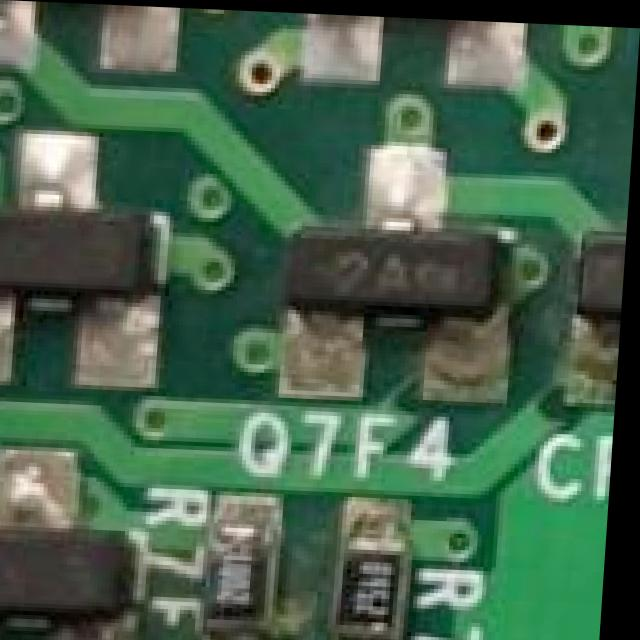resistor: (215, 505, 282, 640), (340, 525, 413, 640)
transistor: (290, 187, 511, 358), (0, 176, 183, 343), (0, 468, 151, 640), (574, 189, 631, 366), (275, 10, 552, 35), (0, 0, 192, 23)
